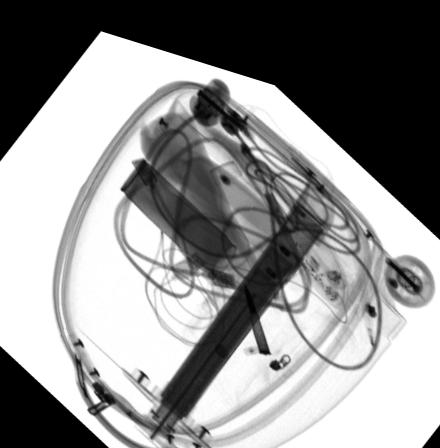Bullet: (243, 267, 271, 338)
